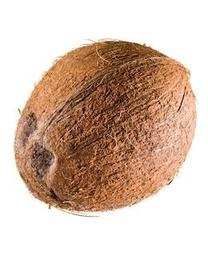coconut: (14, 41, 198, 212)
